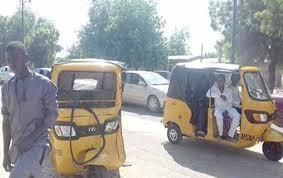keke: (164, 60, 283, 162)
